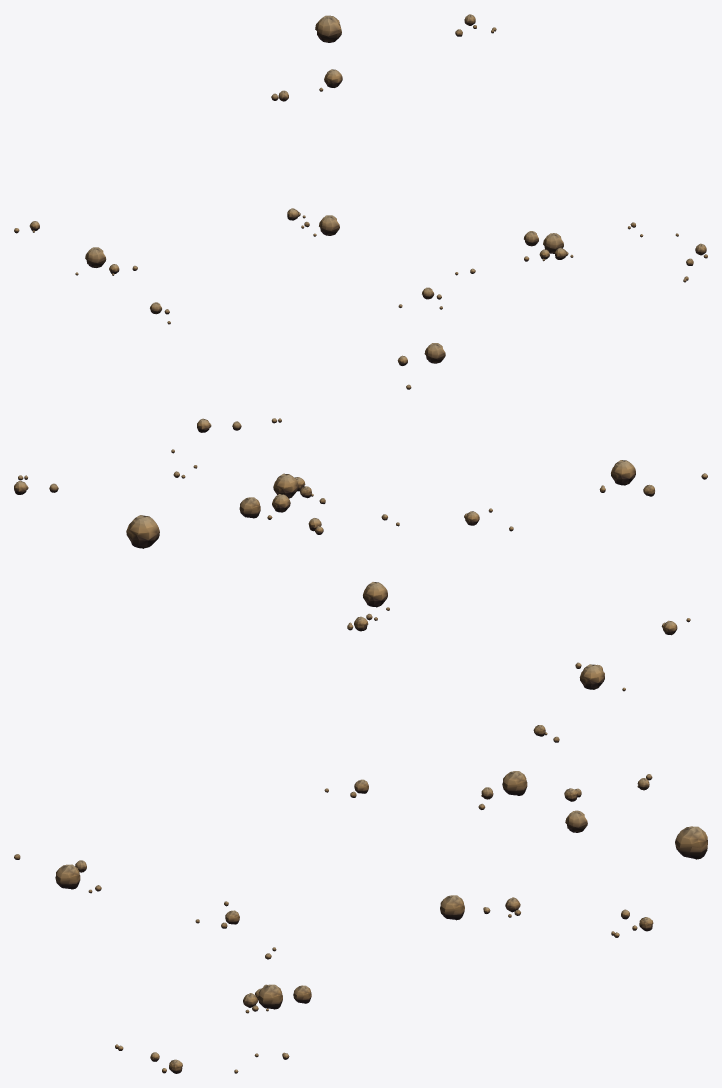
The model's file is level1BouldersWhole_grp.fbx.
3 views of the same model, one above another, from view 1: azimuth 30°, elevation 25°; view 2: azimuth 150°, elevation 25°; view 3: azimuth 270°, elevation 25° (orthographic). The views are drawn at different scales.
Visible parts, largest first — view 1: no part large enough to name; view 2: boulder_57; view 3: boulder_57, boulder_14, boulder_27, boulder_36, boulder_46.
Boxes of the visible parts, x1,y1,x2,y2 form: boulder_57: [126, 515, 159, 548]; boulder_57: [675, 826, 707, 859]; boulder_14: [258, 984, 282, 1009]; boulder_27: [55, 864, 80, 889]; boulder_36: [502, 771, 527, 795]; boulder_46: [440, 895, 464, 920].
Bounding box in the file's own units: 1599 × 376 × 1577.
